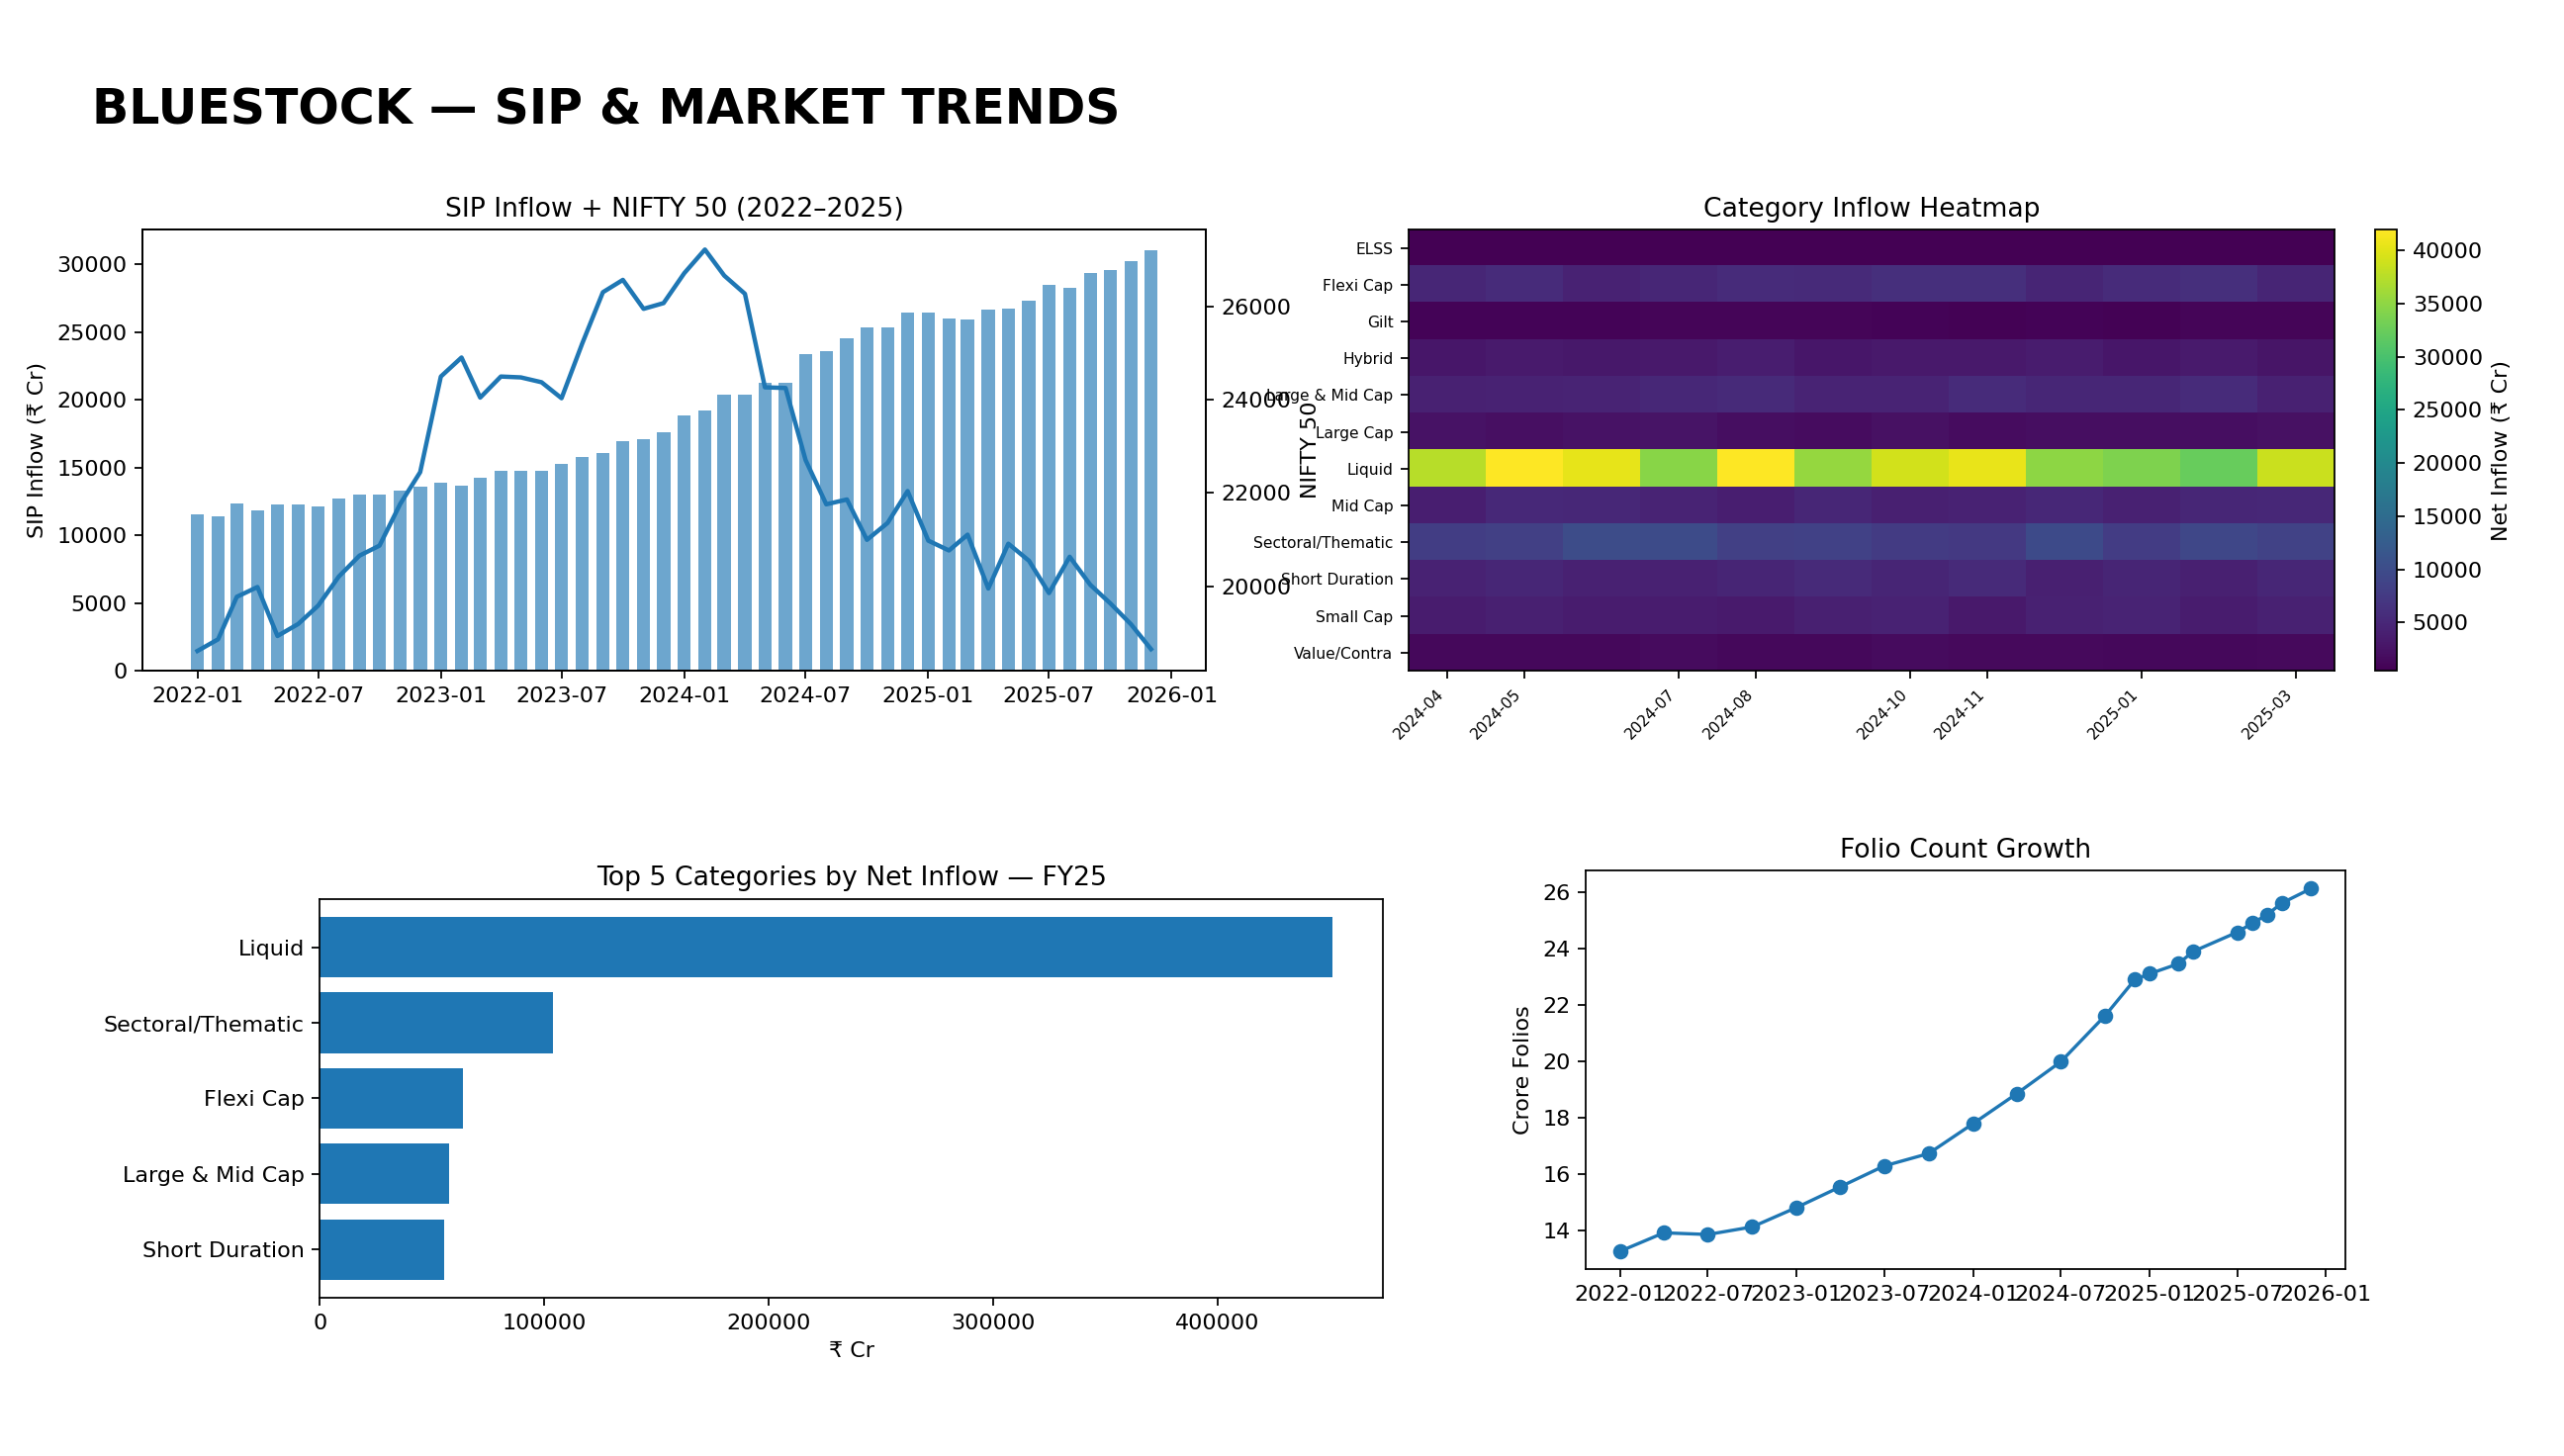

Layout of this report page (visuals, bound fields, positions):
{"tool":"powerbi","page":{"name":"SIP & Market Trends","canvas":[1280,720],"ordinal":3},"visuals":[{"type":"cardVisual","fields":{"Data":["Monthly SIP.Total SIP"]},"box":[9.6,0,393.6,110.1],"z":0},{"type":"cardVisual","fields":{"Data":["Monthly SIP.Average Monthly SIP"]},"box":[406,0,468,110.1],"z":1000},{"type":"cardVisual","fields":{"Data":["Monthly SIP.Total Folios"]},"box":[871.2,0,408.8,110.1],"z":2000},{"type":"lineChart","title":"Monthly SIP Inflow Trend","fields":{"Category":["Monthly SIP.month.Variation.Date Hierarchy.Month","Monthly SIP.month.Variation.Date Hierarchy.Day"],"Y":["Sum(Monthly SIP.sip_inflow_crore)"]},"box":[0,110.1,649.6,264.3],"z":3000},{"type":"clusteredColumnChart","title":"Net Inflows by Fund Category","fields":{"Category":["Category Inflows.category"],"Y":["Sum(Category Inflows.net_inflow_crore)"]},"box":[649.6,110.1,630.4,264.3],"z":4000},{"type":"lineChart","title":"Benchmark Index Performance Trend","fields":{"Category":["Benchmark.date.Variation.Date Hierarchy.Year","Benchmark.date.Variation.Date Hierarchy.Quarter","Benchmark.date.Variation.Date Hierarchy.Month","Benchmark.date.Variation.Date Hierarchy.Day"],"Series":["Benchmark.index_name"],"Y":["Sum(Benchmark.close_value)"]},"box":[0,374.4,649.6,272.5],"z":5000},{"type":"lineChart","title":"Industry Folio Growth Trend","fields":{"Category":["Industry Folio.month.Variation.Date Hierarchy.Year","Industry Folio.month.Variation.Date Hierarchy.Quarter","Industry Folio.month.Variation.Date Hierarchy.Month","Industry Folio.month.Variation.Date Hierarchy.Day"],"Y":["Sum(Industry Folio.total_folios_crore)"]},"box":[649.6,374.4,630.4,272.5],"z":6000},{"type":"slicer","fields":{"Values":["Category Inflows.category"]},"box":[0,644,430.7,76],"z":7000},{"type":"slicer","fields":{"Values":["Benchmark.index_name"]},"box":[430.7,646.7,413.3,73.3],"z":8000},{"type":"slicer","fields":{"Values":["Monthly SIP.month"]},"box":[854.7,646.7,425.3,73.3],"z":9000}]}

Visuals, with their boxes in screenshot pixels (x1, y1, x2, y2), scaled from the page's 1280x720 canvas onto the 2564x1456 screenshot:
cardVisual - Monthly SIP.Total SIP: (19,0,807,223)
cardVisual - Monthly SIP.Average Monthly SIP: (813,0,1751,223)
cardVisual - Monthly SIP.Total Folios: (1745,0,2563,223)
"Monthly SIP Inflow Trend" lineChart: (0,223,1301,757)
"Net Inflows by Fund Category" clusteredColumnChart: (1301,223,2563,757)
"Benchmark Index Performance Trend" lineChart: (0,757,1301,1309)
"Industry Folio Growth Trend" lineChart: (1301,757,2563,1309)
slicer - Category Inflows.category: (0,1303,863,1455)
slicer - Benchmark.index_name: (863,1308,1691,1455)
slicer - Monthly SIP.month: (1712,1308,2563,1455)
